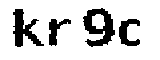9: (82, 6, 115, 51)
c: (118, 16, 143, 50)
k: (10, 6, 43, 48)
r: (47, 19, 74, 45)
